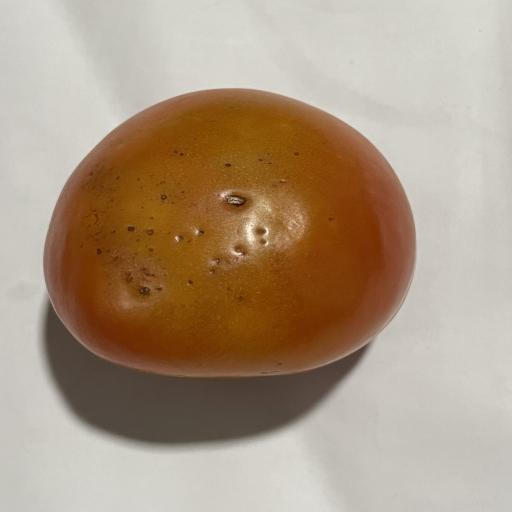overipe: (44, 89, 415, 378)
